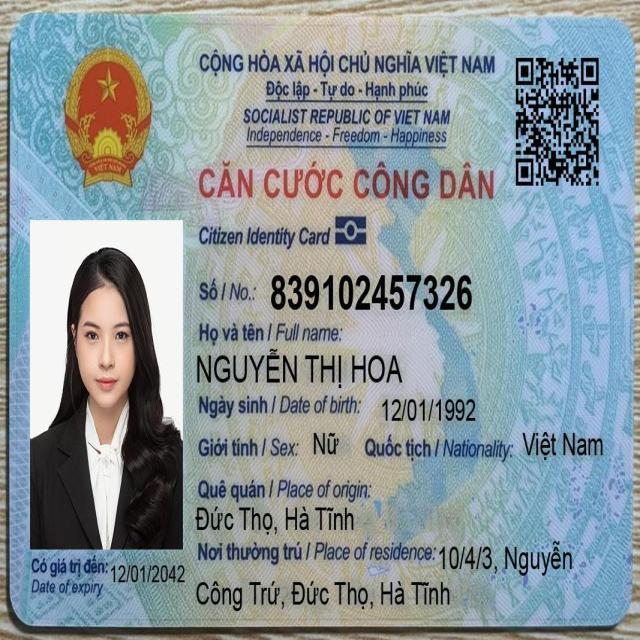current_place: (194, 576, 452, 614), (436, 536, 574, 579)
dob: (381, 395, 477, 426)
expire_date: (109, 561, 187, 588)
gender: (311, 429, 340, 458)
id: (268, 269, 475, 317)
name: (195, 345, 405, 391)
nationality: (521, 427, 605, 462)
origin_place: (194, 502, 356, 538)
qr: (512, 52, 606, 191)
